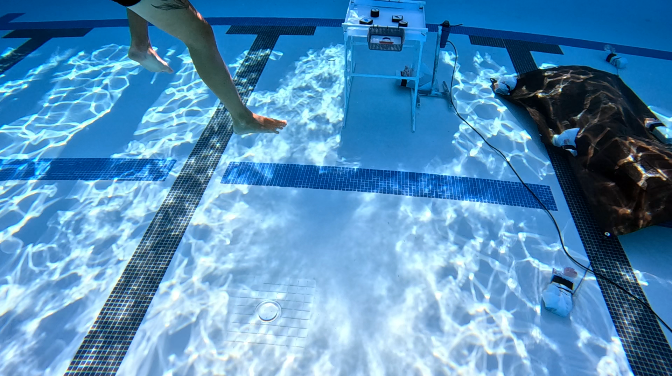sandbag: (495, 53, 671, 237)
